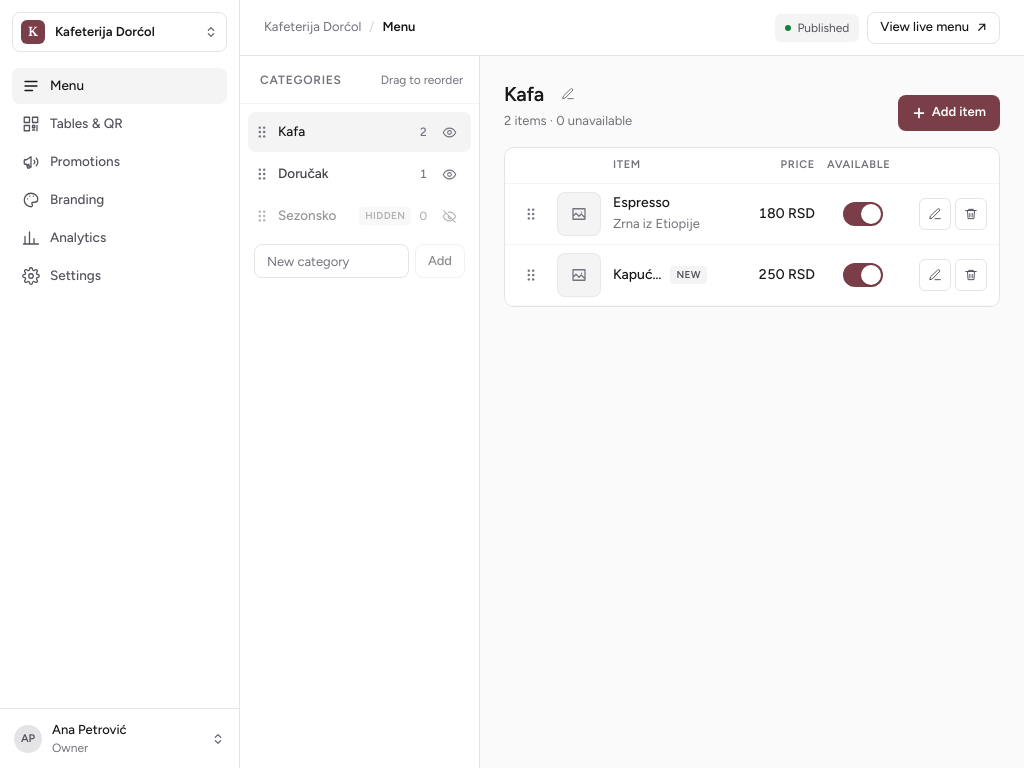
adding a venue › shows the Pro hint to owners on other plans
Expected: the heading "Kafa" is shown, [504, 82, 544, 106]
Click the button "K Kafeterija Dorćol" at (120, 32), box [12, 12, 227, 52]
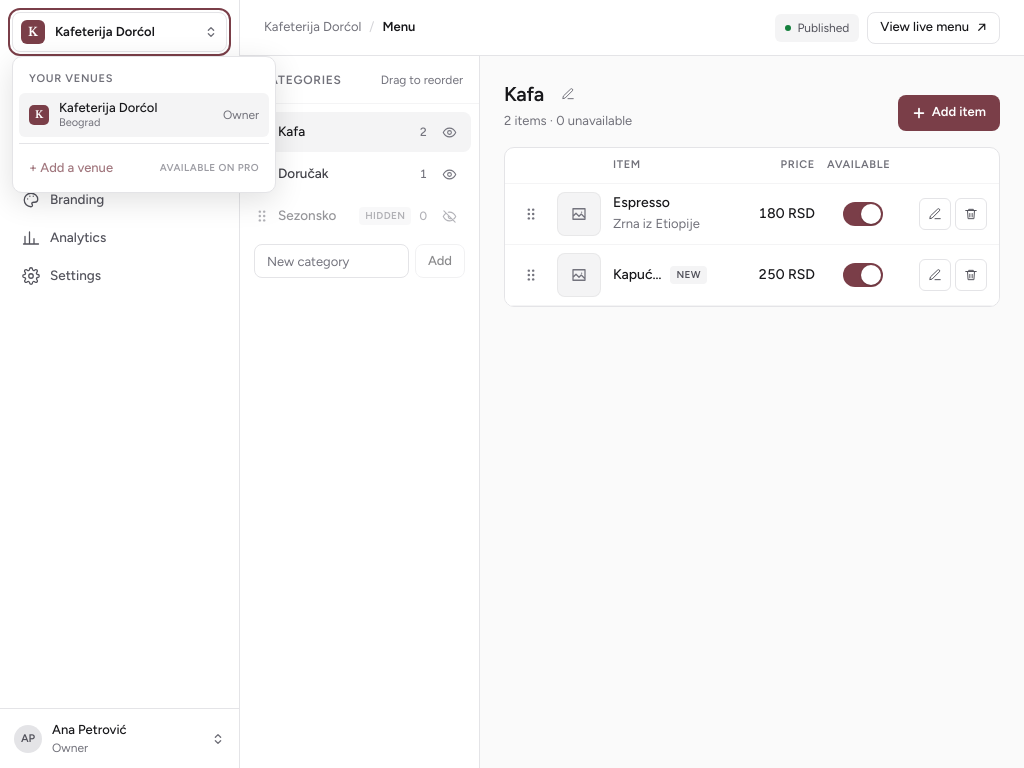
Result: the text "Available on Pro" is shown at [160, 161, 259, 175]
